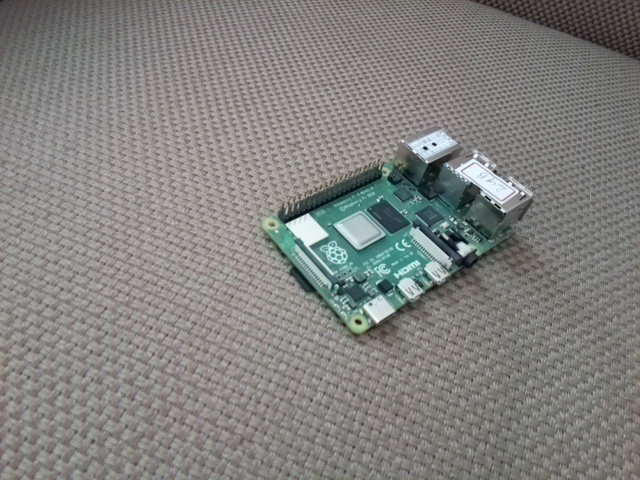Pi4: (255, 122, 538, 341)
